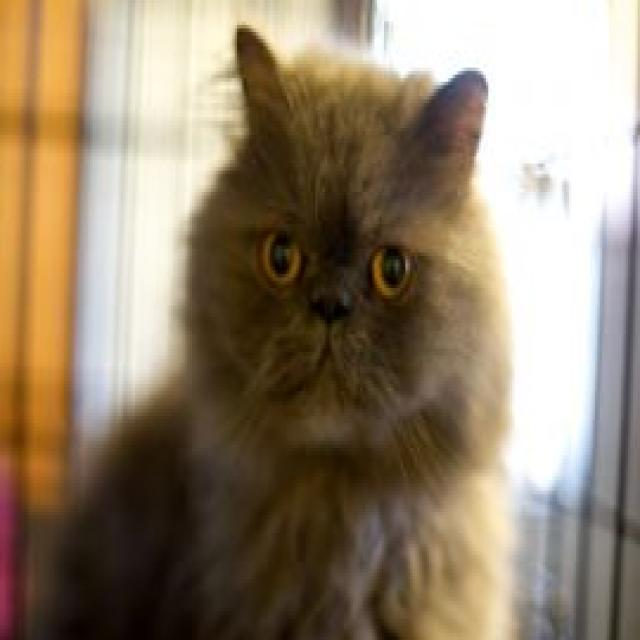Persian: (24, 18, 519, 640)
